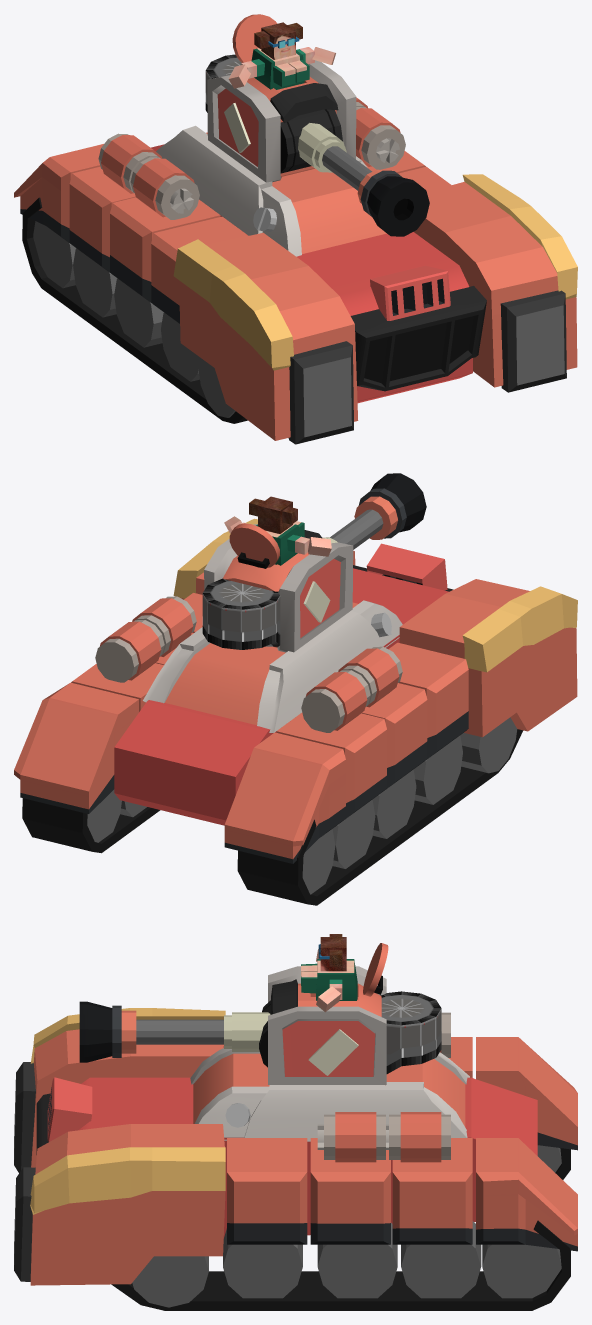
File: FatLAdyTank.fbx
3 renders of one model, top to bottom at view 1: azimuth 30°, elevation 25°; view 2: azimuth 150°, elevation 25°; view 3: azimuth 270°, elevation 25°, orthographic.
Visible parts, largest first — view 1: RedTank_RightLeg, RedTank_LeftLeg, RedTank_topBody, RedTank_FrontShield, RedTank_CannonHead, RedTank_CenterBody, RedTank_CannonBarrel, RedTank_frontExahust, RedTank_Cylinder3, RedTank_Cylinder1, Wheel_R_3, RedTank_Cylinder4 (+10 smaller); view 2: RedTank_RightLeg, RedTank_LeftLeg, RedTank_CenterBody, RedTank_topBody, RedTank_CannonHead, RedTank_battery, RedTank_CannonBarrel, RedTank_Cylinder4, RedTank_Cylinder2, RedTank_frontExahust, Wheel_R_2, Wheel_R_1 (+10 smaller); view 3: RedTank_LeftLeg, RedTank_RightLeg, RedTank_topBody, RedTank_CannonHead, RedTank_CenterBody, RedTank_CannonBarrel, Wheel_L_4, RedTank_battery, Wheel_L_3, Wheel_L_1, Wheel_L_5, RedTank_Cylinder1 (+9 smaller).
Boxes of the visible parts, box(x1,y1,x2,y2) form: RedTank_RightLeg: box(14, 144, 358, 444); RedTank_LeftLeg: box(365, 151, 577, 392); RedTank_topBody: box(156, 125, 386, 256); RedTank_FrontShield: box(350, 286, 486, 391); RedTank_CannonHead: box(207, 60, 356, 182); RedTank_CenterBody: box(151, 144, 472, 403); RedTank_CannonBarrel: box(298, 123, 429, 236); RedTank_frontExahust: box(370, 265, 450, 320); RedTank_Cylinder3: box(130, 157, 199, 219); RedTank_Cylinder1: box(356, 107, 405, 169); Wheel_R_3: box(114, 278, 163, 347); RedTank_Cylinder4: box(98, 133, 161, 193); RedTank_RightLeg: box(224, 579, 577, 905); RedTank_LeftLeg: box(14, 518, 355, 853); RedTank_CenterBody: box(114, 568, 448, 825); RedTank_topBody: box(143, 600, 402, 732); RedTank_CannonHead: box(204, 524, 353, 652); RedTank_battery: box(202, 578, 280, 649); RedTank_CannonBarrel: box(322, 473, 426, 549); RedTank_Cylinder4: box(301, 670, 370, 732); RedTank_Cylinder2: box(95, 620, 164, 682); RedTank_frontExahust: box(366, 543, 447, 590); Wheel_R_2: box(413, 735, 462, 804); Wheel_R_1: box(460, 717, 517, 773); RedTank_LeftLeg: box(14, 1124, 577, 1310); RedTank_RightLeg: box(14, 1008, 577, 1179); RedTank_topBody: box(190, 1048, 469, 1141); RedTank_CannonHead: box(268, 966, 386, 1085); RedTank_CenterBody: box(78, 1077, 537, 1238); RedTank_CannonBarrel: box(79, 1001, 270, 1062); Wheel_L_4: box(401, 1221, 481, 1298); RedTank_battery: box(380, 991, 441, 1073); Wheel_L_3: box(317, 1223, 397, 1298); Wheel_L_1: box(223, 1228, 302, 1298); Wheel_L_5: box(482, 1244, 561, 1298); RedTank_Cylinder1: box(317, 1112, 385, 1162).
Bounding box in the file's own units: 9.17 × 8.28 × 14.07.
